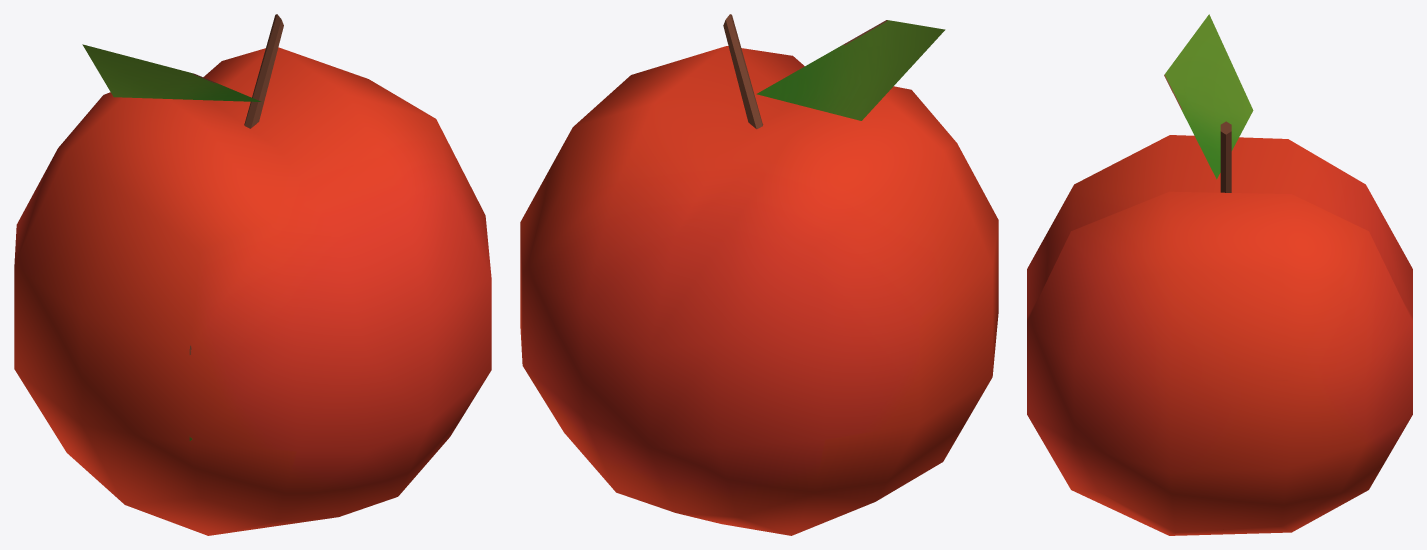
Rendered from apple.fbx.
3 views of the same model, side by side, from view 1: azimuth 30°, elevation 25°; view 2: azimuth 150°, elevation 25°; view 3: azimuth 270°, elevation 25° (orthographic). The views are drawn at different scales.
Parts seen in each view (by area): view 1: apple; view 2: apple; view 3: apple.
Boxes of the visible parts, x1,y1,x2,y2 form: apple: (14, 14, 491, 535); apple: (520, 14, 998, 535); apple: (1027, 14, 1412, 535).
Bounding box in the file's own units: 27.17 × 32.41 × 26.64.
1 material, 1 textured.
